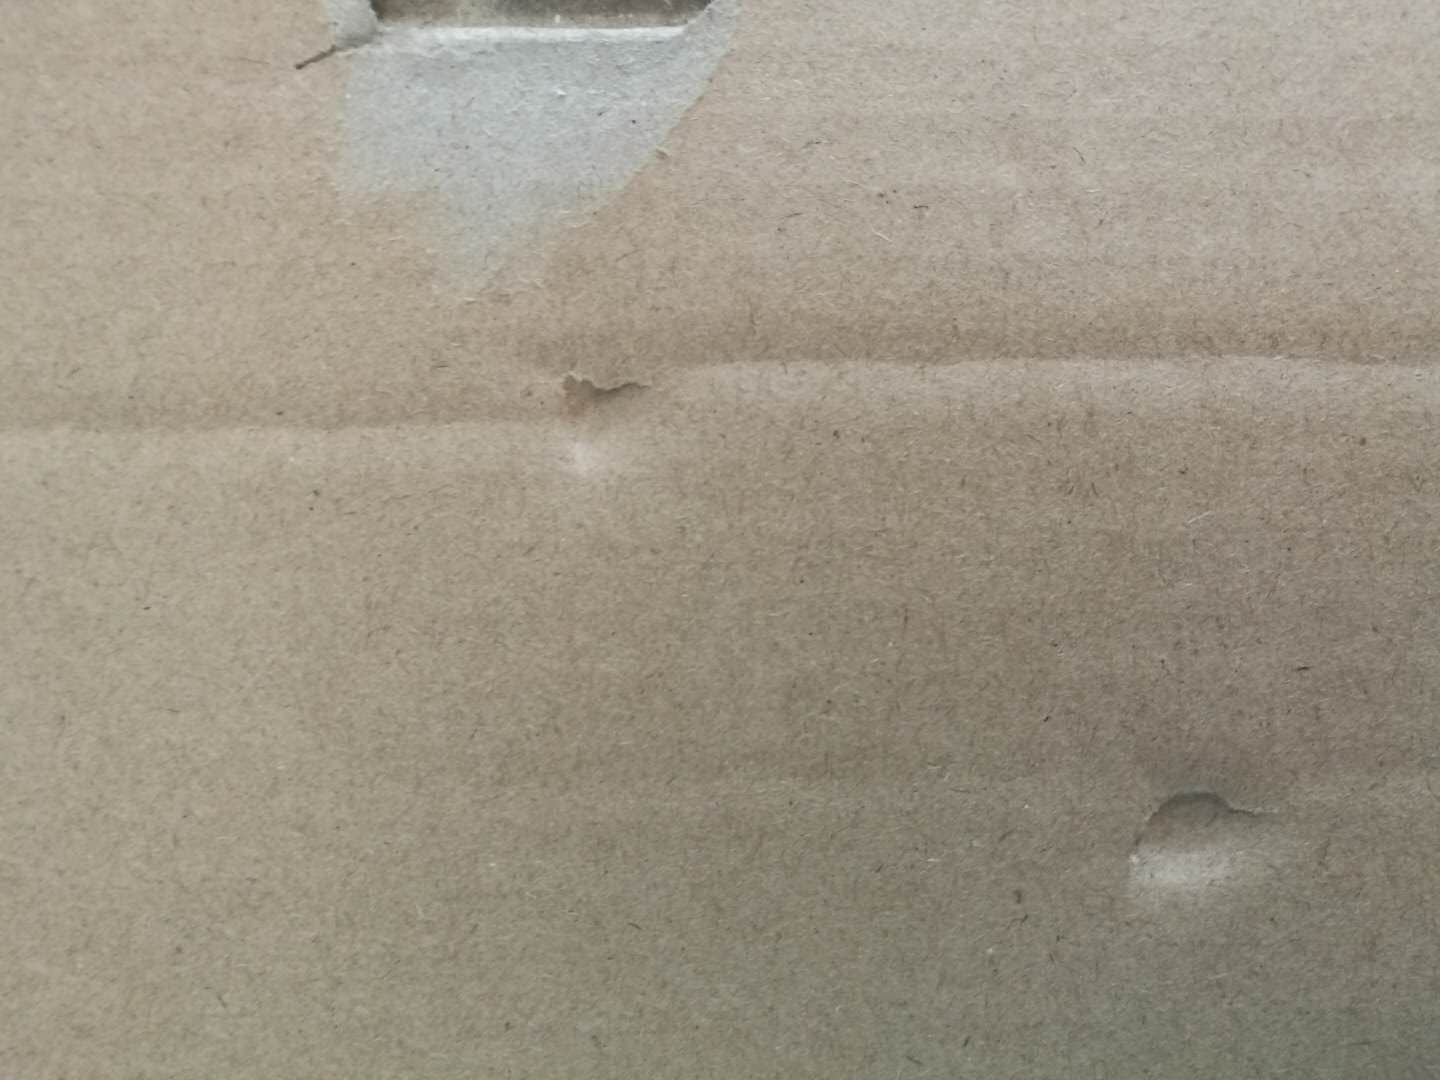defect: (270, 2, 765, 318), (670, 301, 1440, 404), (2, 368, 570, 462), (1104, 767, 1318, 920), (524, 362, 681, 482)
